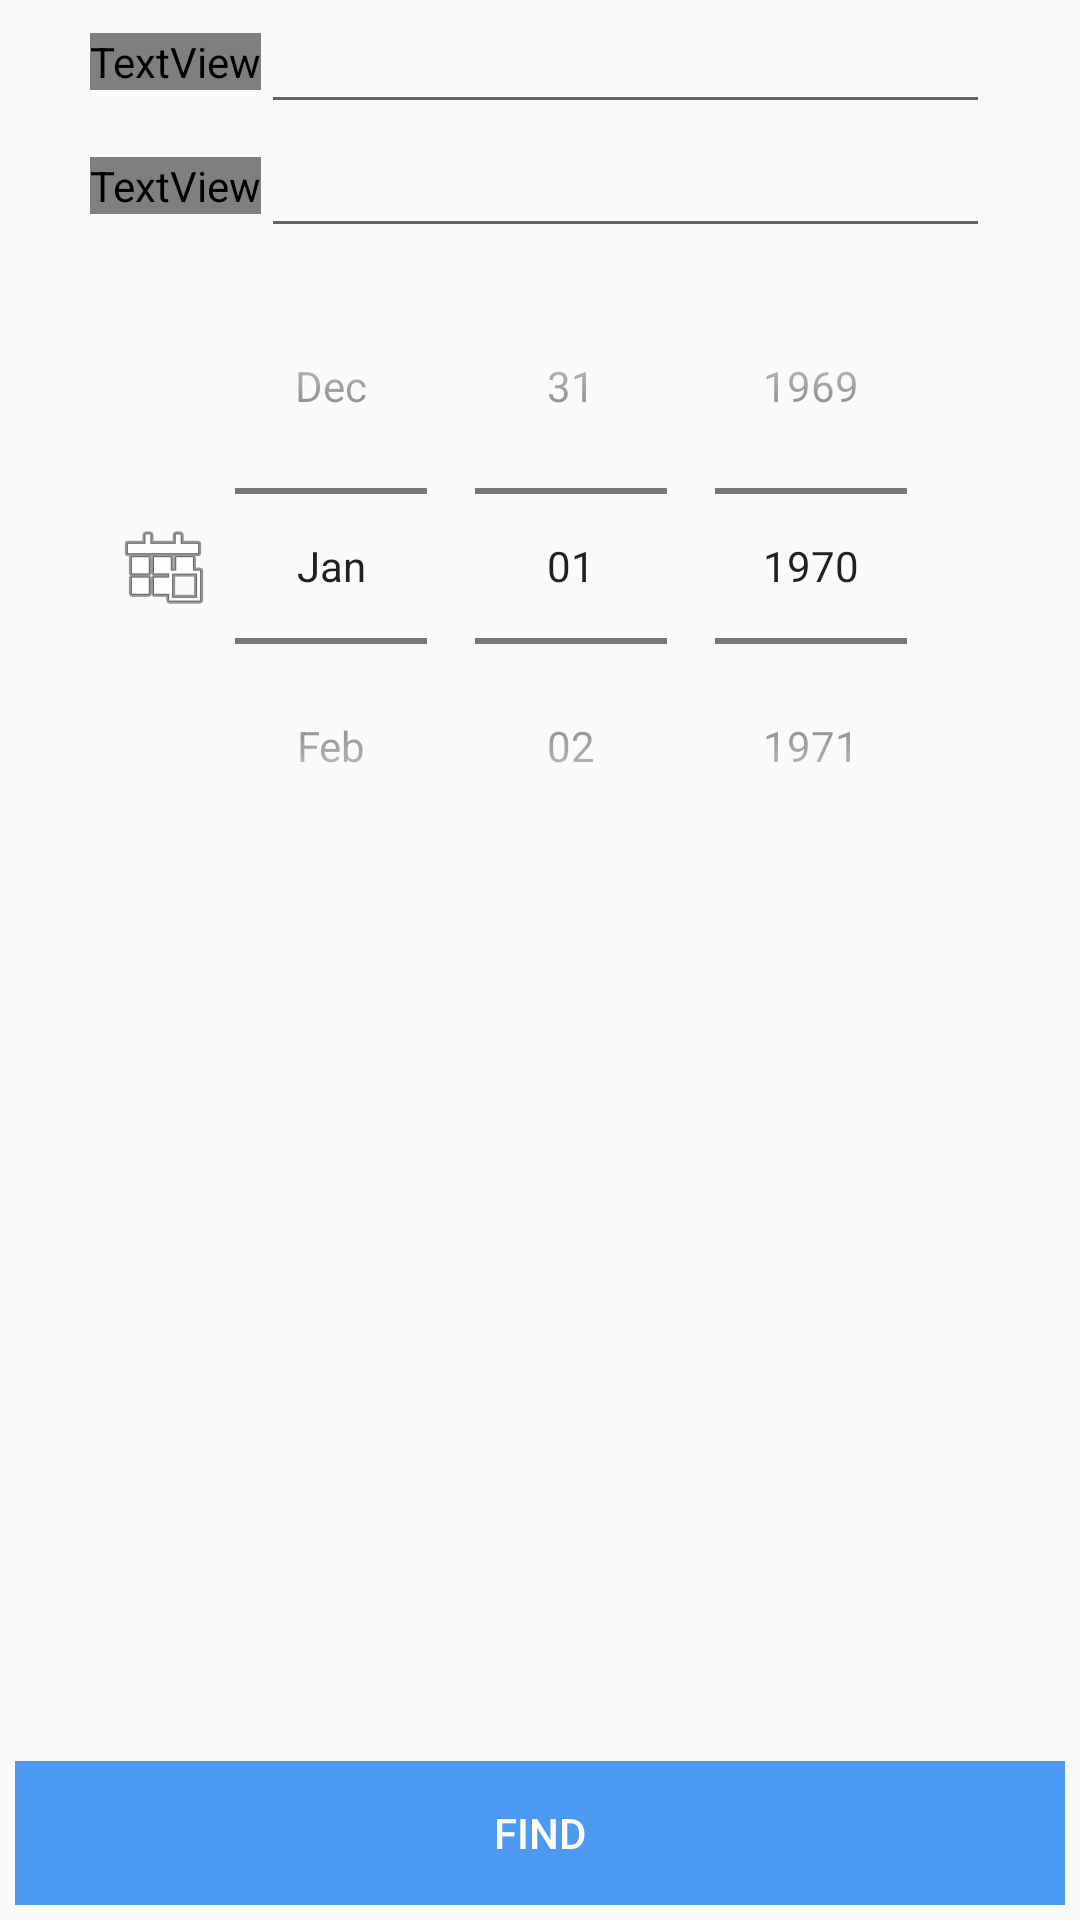

Icons on this 1080 × 1920 Android screen, each with the point to tap as [x,y]:
today: [164,567]
